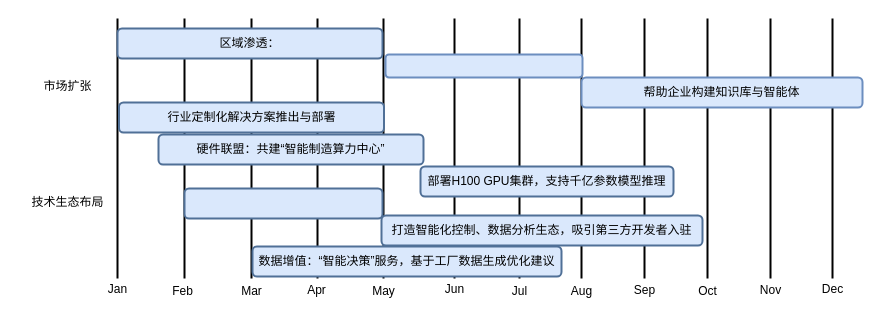
The diagram is 880 pixels wide and 323 high, and some of its shapes have lost their labels. The shapes that lost their labels are listed below. From the top down, each one's box as (x1, y1, x2, y2) in pixels, then its label:
(384, 53, 583, 78): 付费客户与营收突破
(183, 187, 383, 219): 开发者生态：开放API接口 SDK工具包
